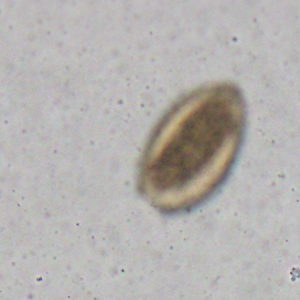Fasciola_hepatica_egg: (136, 79, 249, 215)
